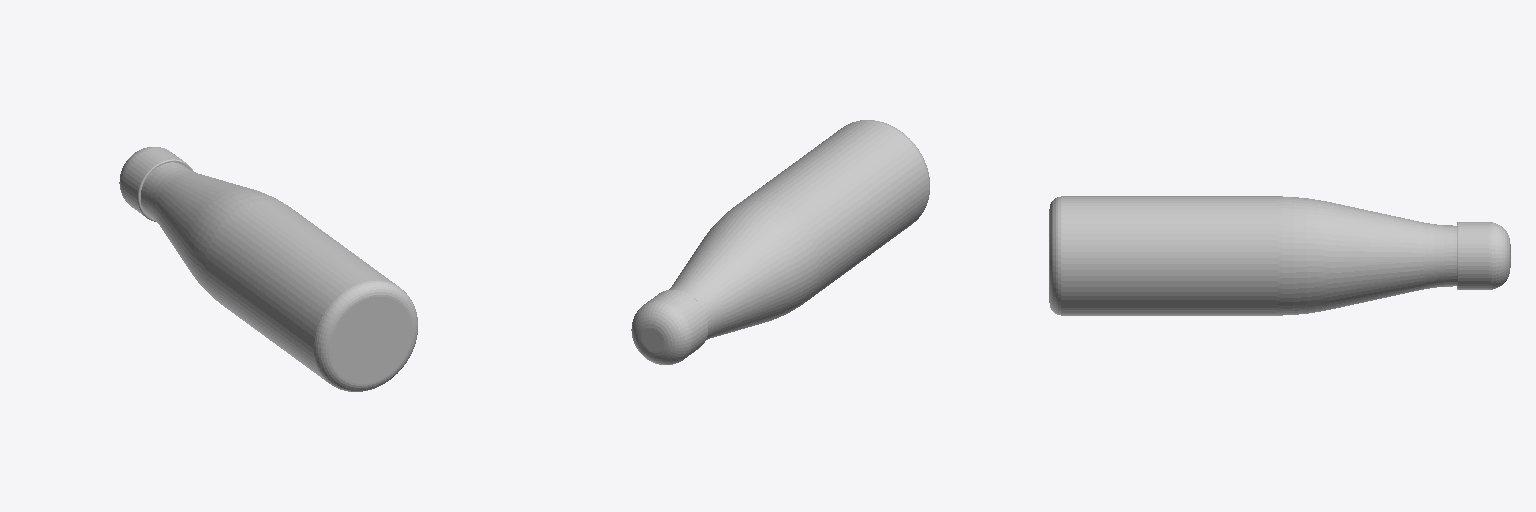
File: bottle.obj
The picture shows the model from 3 angles: view 1: azimuth 30°, elevation 25°; view 2: azimuth 150°, elevation 25°; view 3: azimuth 270°, elevation 25°; orthographic projection.
Visible parts, largest first — view 1: bottle; view 2: bottle; view 3: bottle.
Part boxes in pixels (x1,y1,x2,y2): bottle: (119, 147, 417, 391); bottle: (631, 120, 929, 364); bottle: (1049, 196, 1510, 315).
Size of the model in its own units: 19 by 18.98 by 73.46.